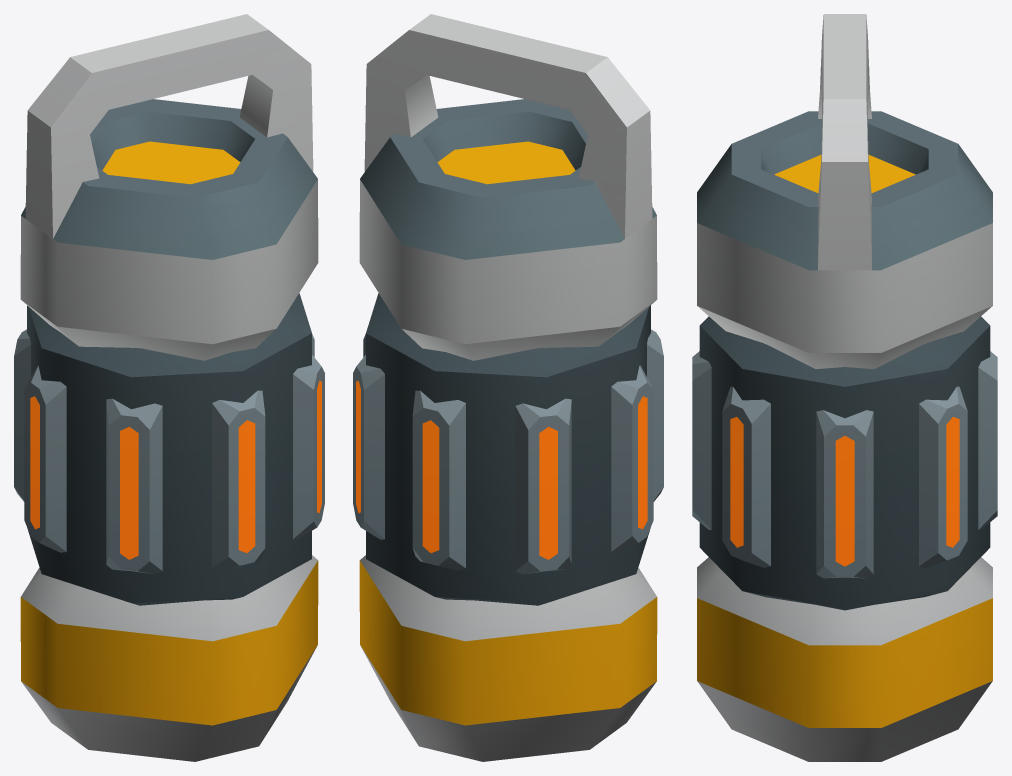
File: Battery_013.glb
The picture shows the model from 3 angles, left to right: view 1: azimuth 30°, elevation 25°; view 2: azimuth 150°, elevation 25°; view 3: azimuth 270°, elevation 25°; orthographic projection.
Visible parts, largest first — view 1: Battery_013; view 2: Battery_013; view 3: Battery_013.
Part boxes in pixels (bbox=[...]): Battery_013: bbox=[14, 14, 324, 761]; Battery_013: bbox=[353, 14, 663, 761]; Battery_013: bbox=[692, 14, 997, 761].
Bounding box in the file's own units: 0.3493 × 0.8298 × 0.3493.
Materials: 2 (2 with a texture image).
